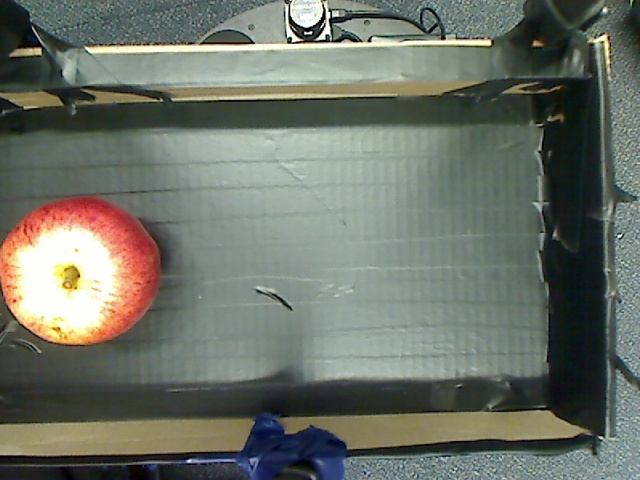apple: (1, 186, 168, 355)
